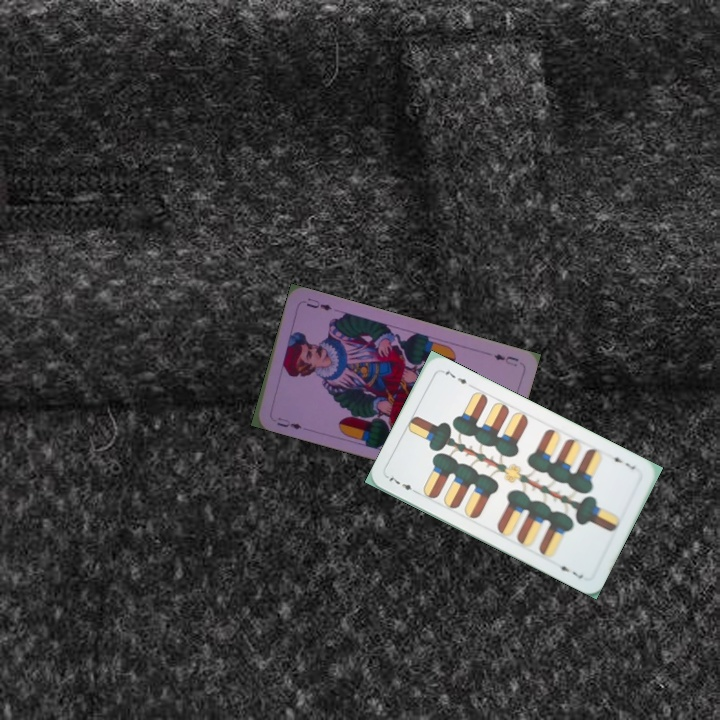E7: (383, 471, 421, 496), (606, 450, 638, 472)
EU: (273, 413, 304, 432), (490, 350, 521, 369)
